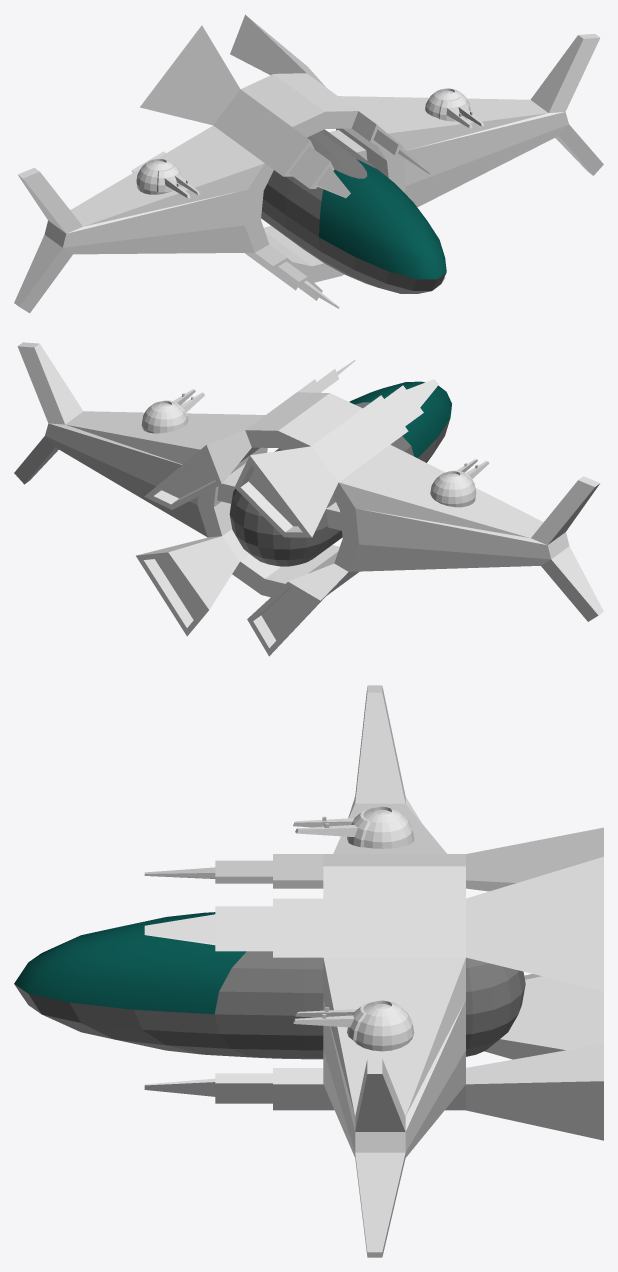
Rendered from nave-V1.fbx.
3 renders of one model, top to bottom at view 1: azimuth 30°, elevation 25°; view 2: azimuth 150°, elevation 25°; view 3: azimuth 270°, elevation 25°, orthographic. The views are drawn at different scales.
Visible parts, largest first — view 1: Alas, Window, Piloto, Torreta1, Torreta2; view 2: Alas, Piloto, Window, Torreta1, Torreta2; view 3: Alas, Piloto, Window, Torreta2, Torreta1.
Part boxes in pixels (<box>): Alas: <box>14,14,603,313</box>; Window: <box>319,159,446,279</box>; Piloto: <box>261,129,446,293</box>; Torreta1: <box>136,159,199,198</box>; Torreta2: <box>425,88,483,128</box>; Alas: <box>14,342,603,656</box>; Piloto: <box>229,402,449,566</box>; Window: <box>349,381,451,457</box>; Torreta1: <box>430,459,489,507</box>; Torreta2: <box>141,389,204,433</box>; Alas: <box>144,685,603,1257</box>; Piloto: <box>14,951,525,1059</box>; Window: <box>14,912,246,1014</box>; Torreta2: <box>293,1000,414,1051</box>; Torreta1: <box>293,806,414,848</box>.
Size of the model in its own units: 612 by 197 by 388.
